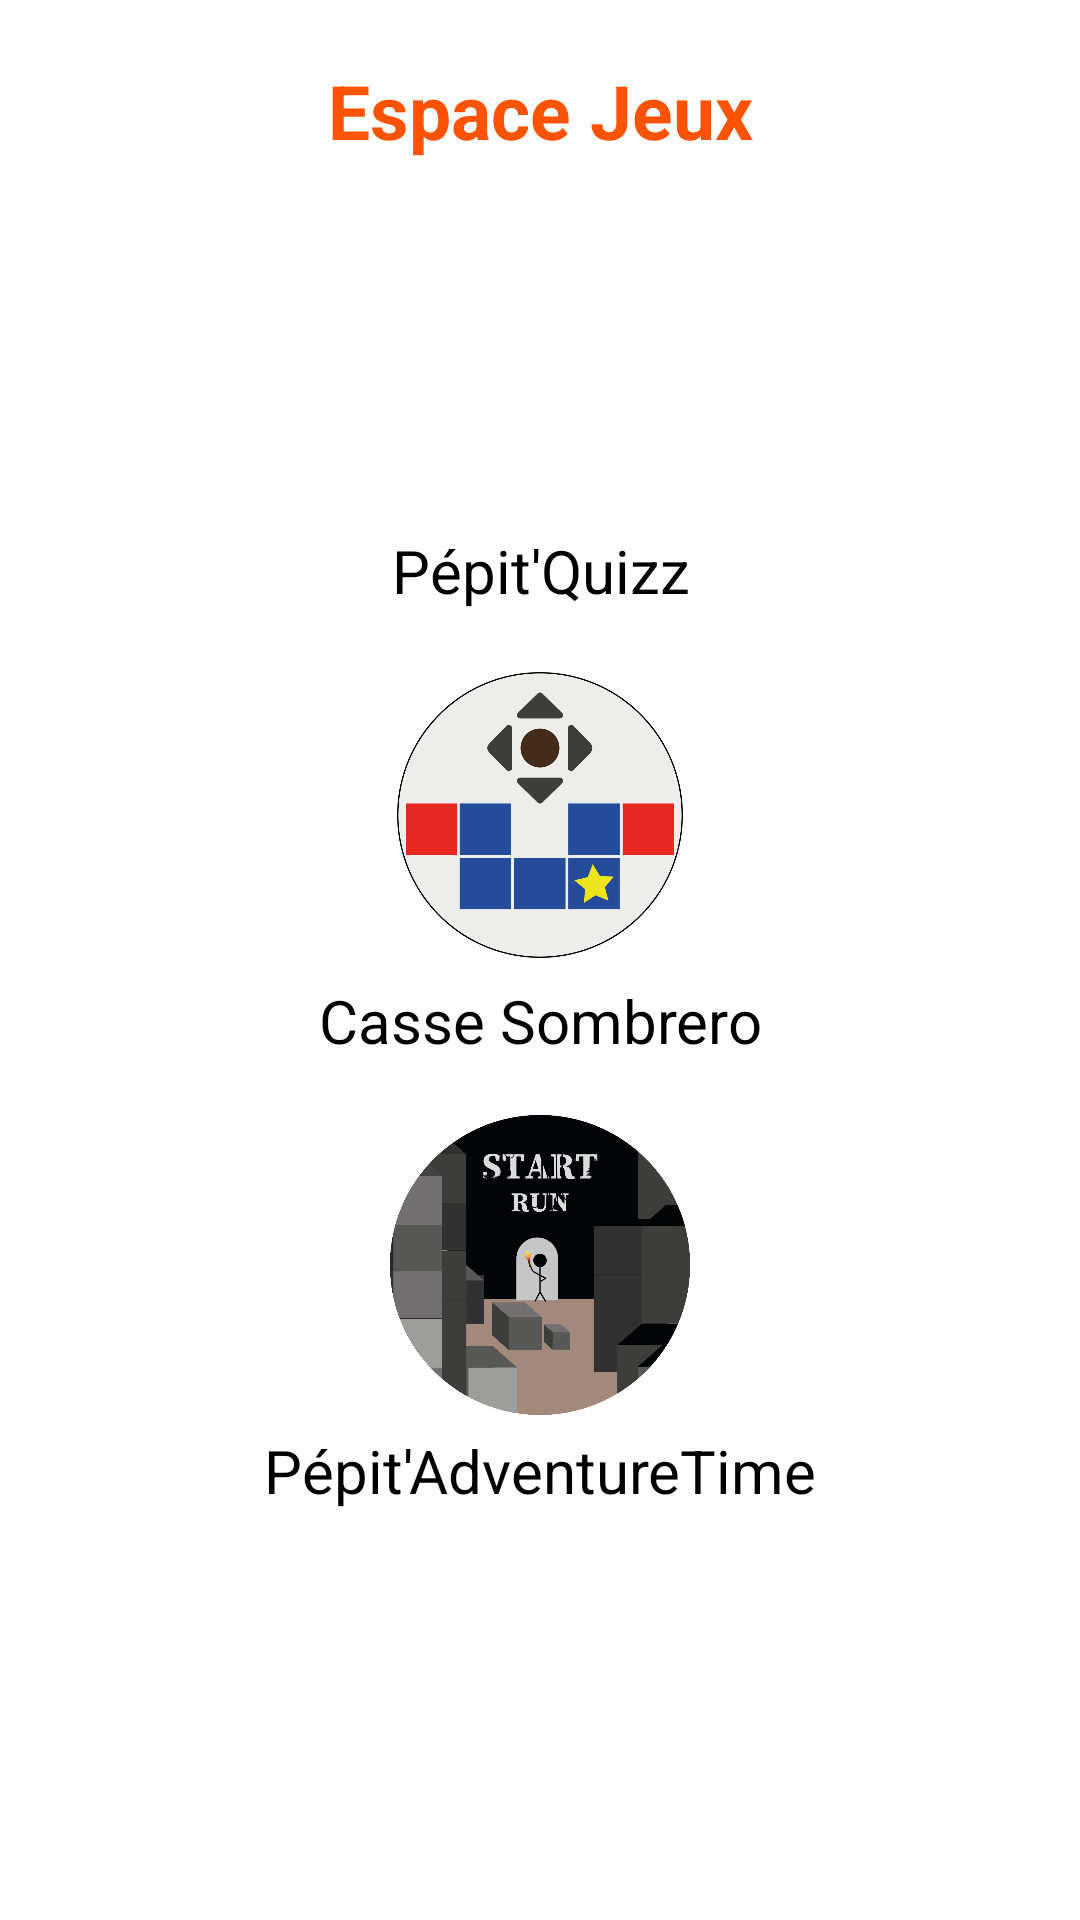

Named icons in this screenshot (1080x1920) and their bounding boxes, [x1,y1,x2,y2]:
run aventure: [390,1115,690,1415]
